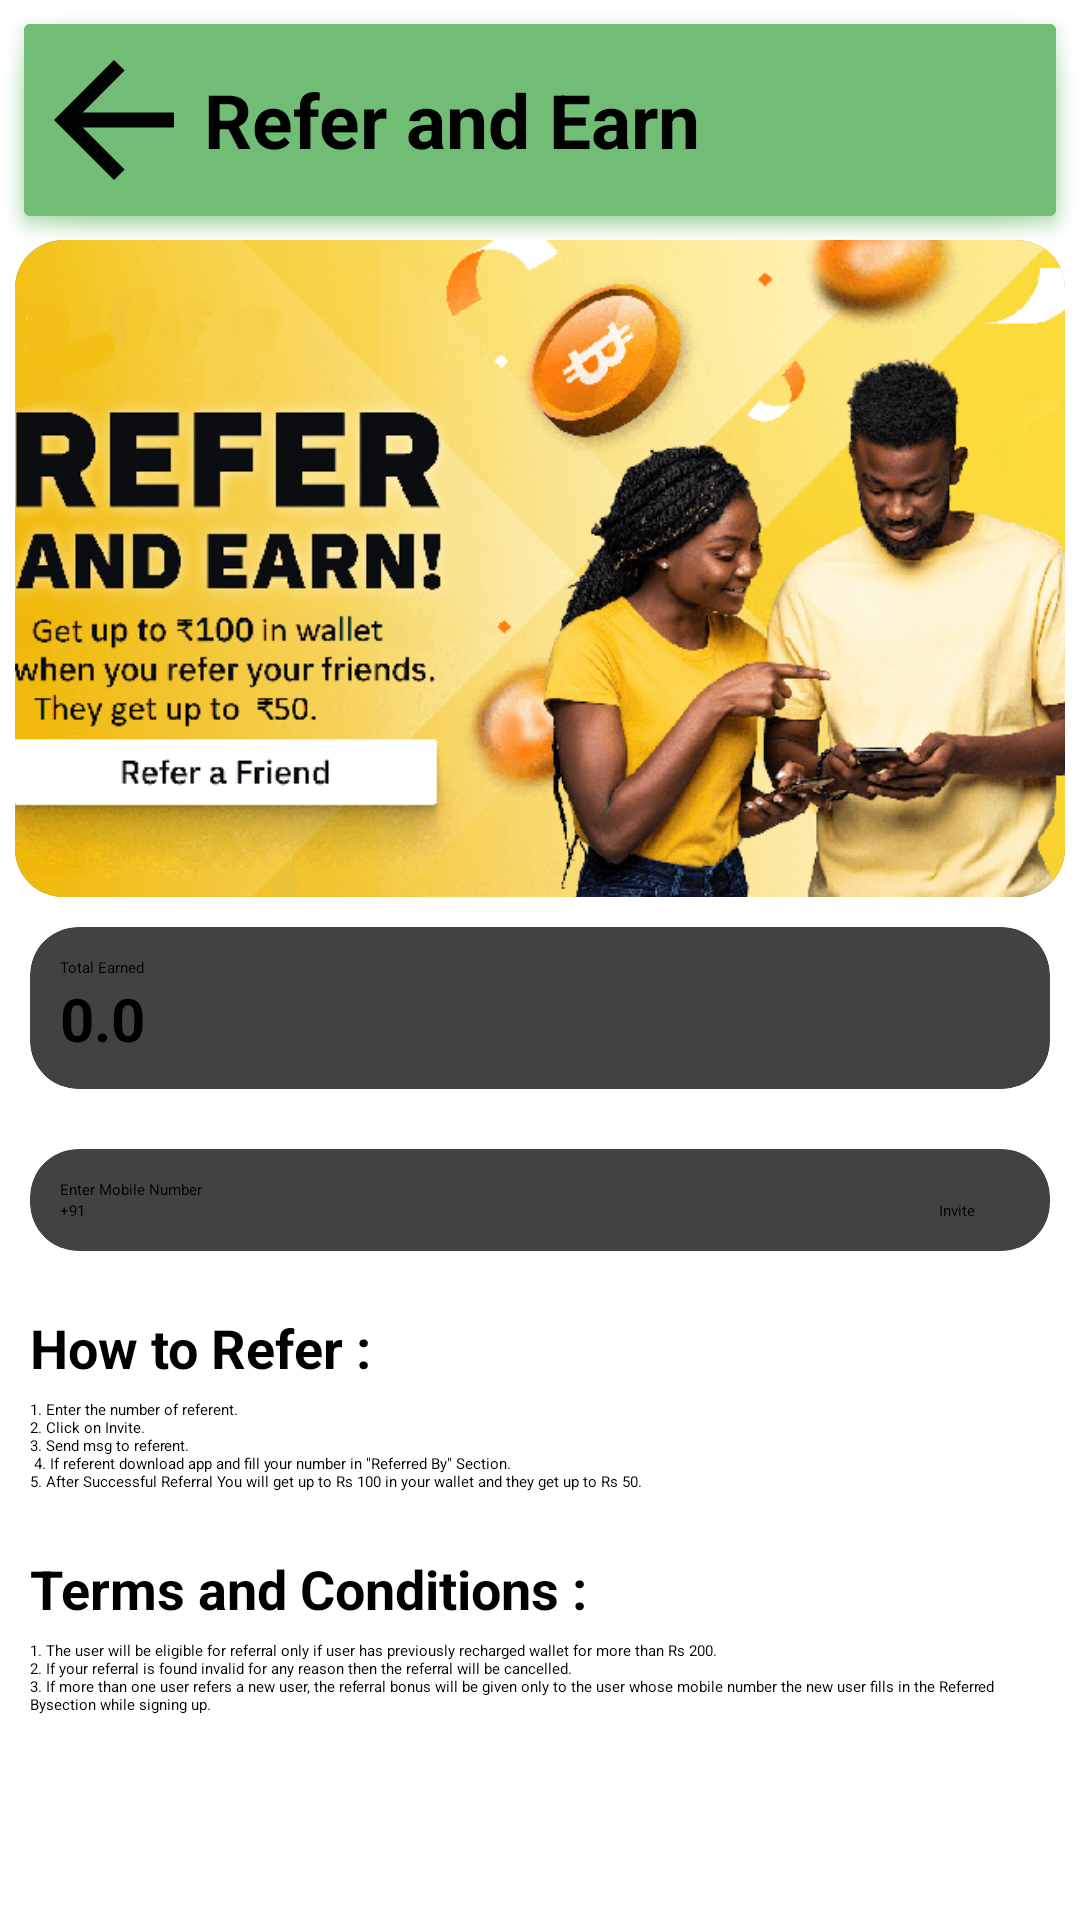

Locate icon controls on the screen. Image size 1080*1920, boxes as (x1, y1, x2, y2).
Back Button: (54, 60, 174, 180)
